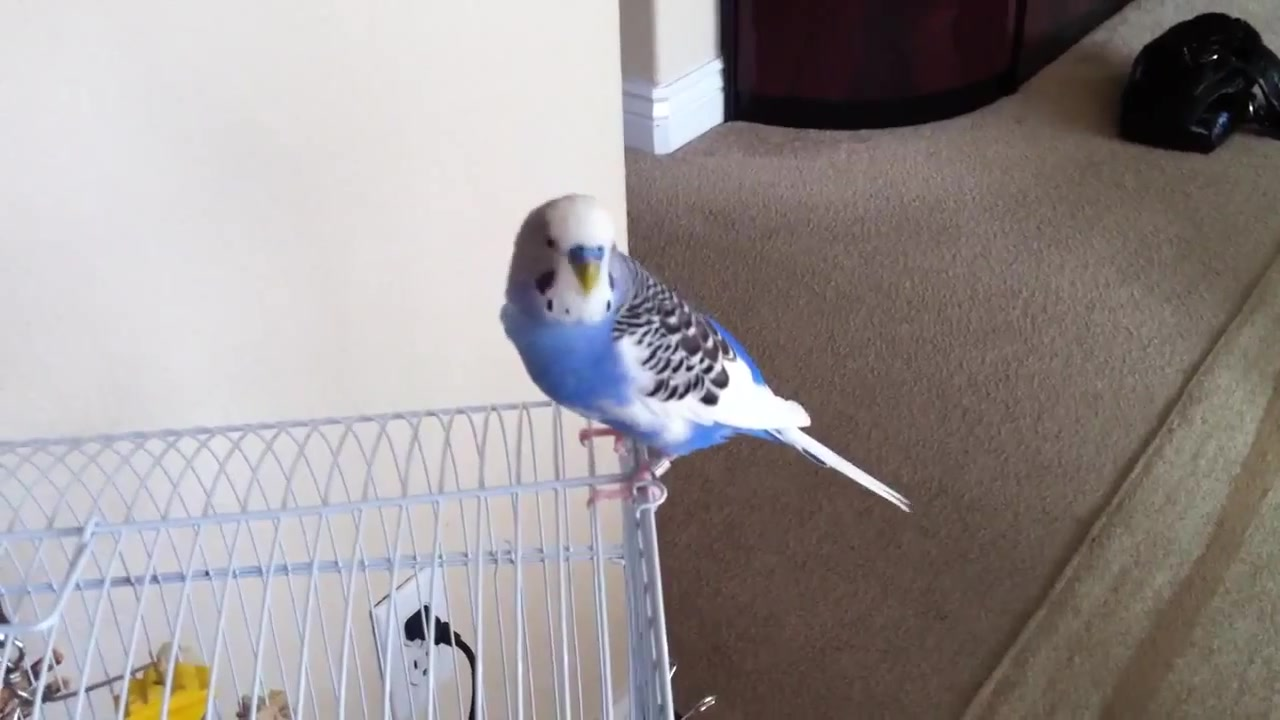bird: (501, 196, 917, 521)
